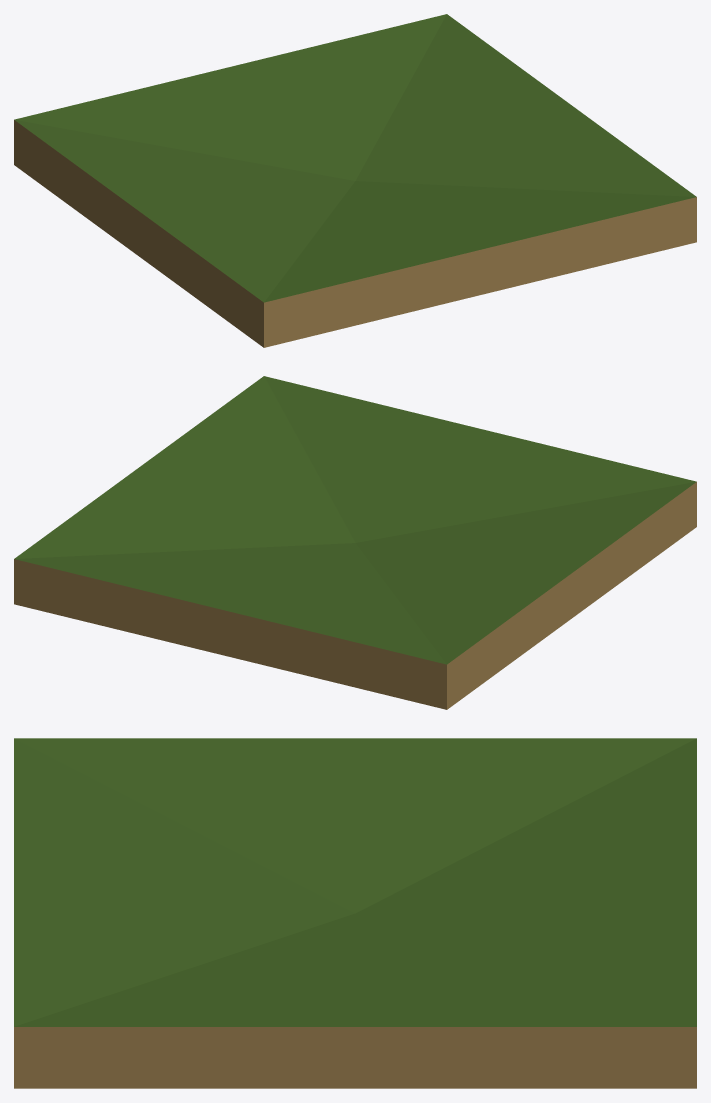
Rendered from Terrain_Modular_Tiles_Grass_Dirt_Divot_01.fbx.
3 renders of one model, top to bottom at view 1: azimuth 30°, elevation 25°; view 2: azimuth 150°, elevation 25°; view 3: azimuth 270°, elevation 25°, orthographic. The views are drawn at different scales.
Visible parts, largest first — view 1: Terrain_Modular_Tiles_Grass_Dirt_Divot_01; view 2: Terrain_Modular_Tiles_Grass_Dirt_Divot_01; view 3: Terrain_Modular_Tiles_Grass_Dirt_Divot_01.
Part boxes in pixels (<box>): Terrain_Modular_Tiles_Grass_Dirt_Divot_01: <box>14,14,696,347</box>; Terrain_Modular_Tiles_Grass_Dirt_Divot_01: <box>14,376,696,709</box>; Terrain_Modular_Tiles_Grass_Dirt_Divot_01: <box>14,738,696,1088</box>.
Size of the model in its own units: 118 by 11.81 by 118.
